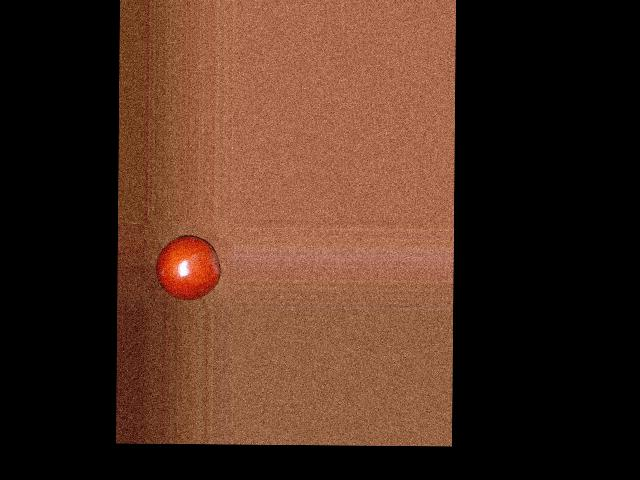tomato: (155, 235, 220, 301)
